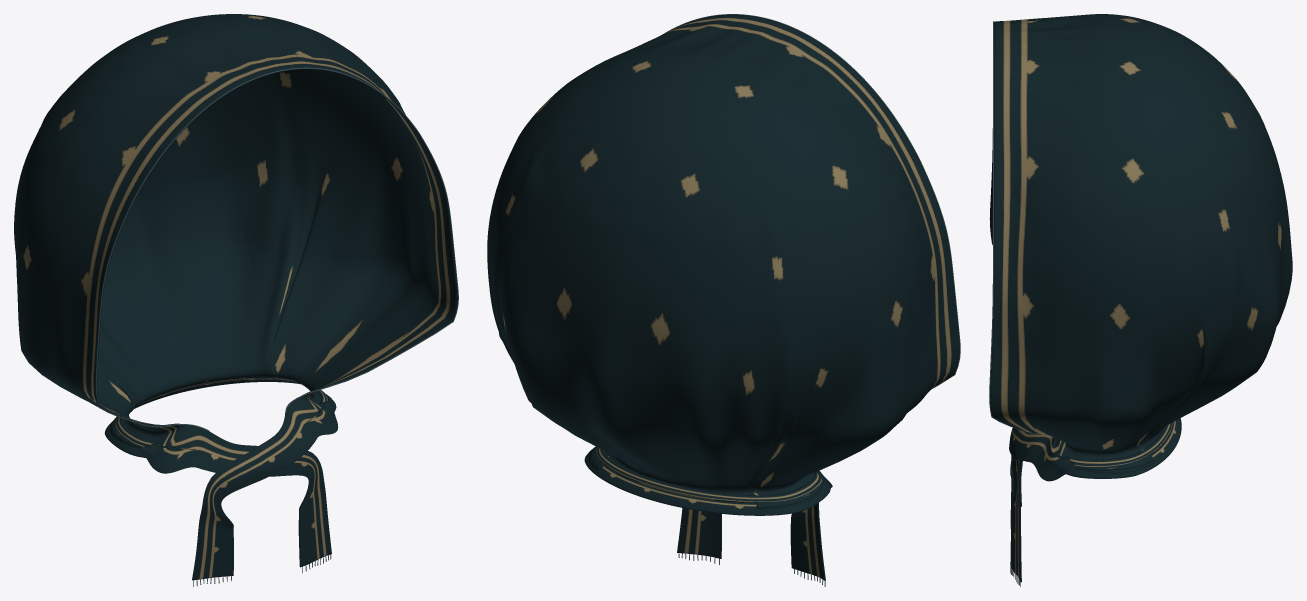
Rendered from Masculine-jersey-pashmina242-headgear.glb.
The picture shows the model from 3 angles, left to right: view 1: azimuth 30°, elevation 25°; view 2: azimuth 150°, elevation 25°; view 3: azimuth 270°, elevation 25°; orthographic projection. The views are drawn at different scales.
Visible parts, largest first — view 1: 226 headgear / Headwear / continuous woven pashmina239, 226 headgear / Headwear / face edge239; view 2: 226 headgear / Headwear / continuous woven pashmina239, 226 headgear / Headwear / face edge239; view 3: 226 headgear / Headwear / continuous woven pashmina239, 226 headgear / Headwear / face edge239.
Part boxes in pixels (<box>): 226 headgear / Headwear / continuous woven pashmina239: <box>14,14,457,580</box>; 226 headgear / Headwear / face edge239: <box>95,67,458,431</box>; 226 headgear / Headwear / continuous woven pashmina239: <box>487,14,959,580</box>; 226 headgear / Headwear / face edge239: <box>664,14,960,388</box>; 226 headgear / Headwear / continuous woven pashmina239: <box>990,14,1292,582</box>; 226 headgear / Headwear / face edge239: <box>989,21,1040,434</box>.
Size of the model in its own units: 1.03 by 1.35 by 0.7127.
Materials: 3 (1 with a texture image).
